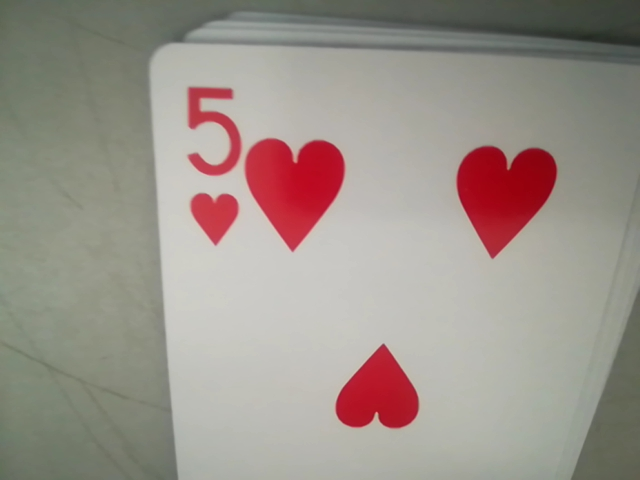hx 5: (180, 85, 242, 254)
